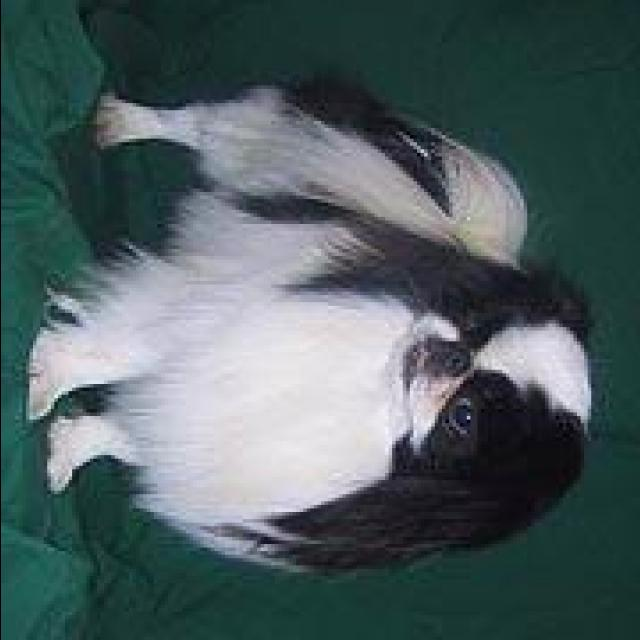husky: (32, 82, 590, 576)
